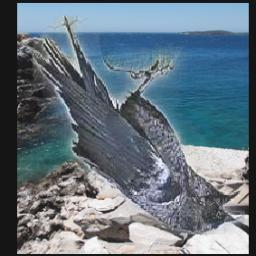Crow: (32, 17, 244, 235)
